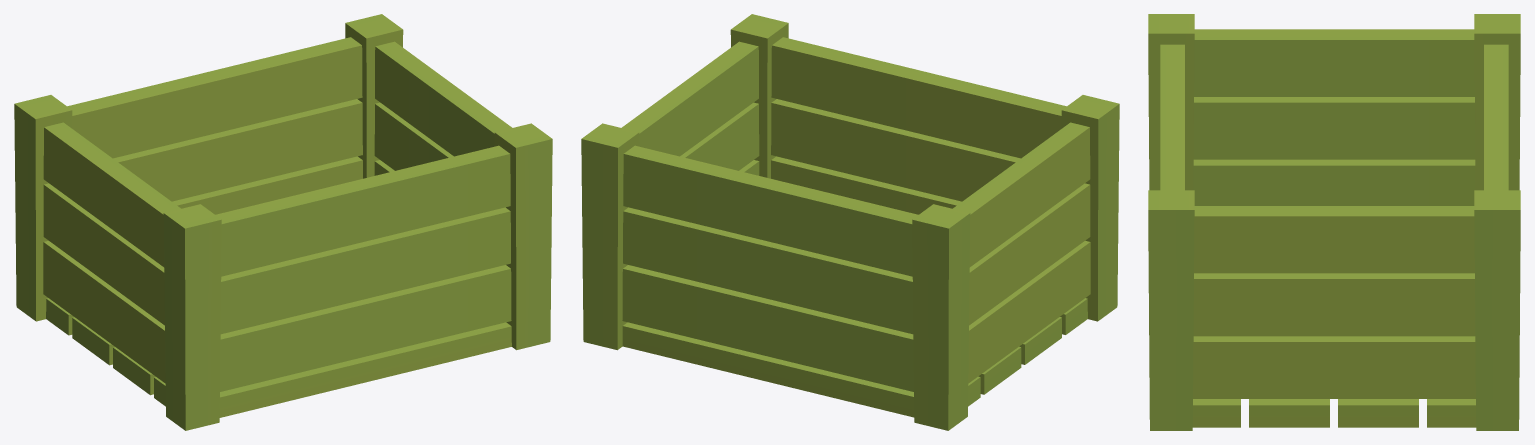
The picture shows the model from 3 angles, left to right: view 1: azimuth 30°, elevation 25°; view 2: azimuth 150°, elevation 25°; view 3: azimuth 270°, elevation 25°; orthographic projection. The views are drawn at different scales.
Visible parts, largest first — view 1: Box_02; view 2: Box_02; view 3: Box_02.
Part boxes in pixels (x1,y1,x2,y2): Box_02: (14,14,552,430); Box_02: (581,14,1119,430); Box_02: (1148,14,1520,430).
Size of the model in its own units: 0.666 by 0.3518 by 0.5355.
